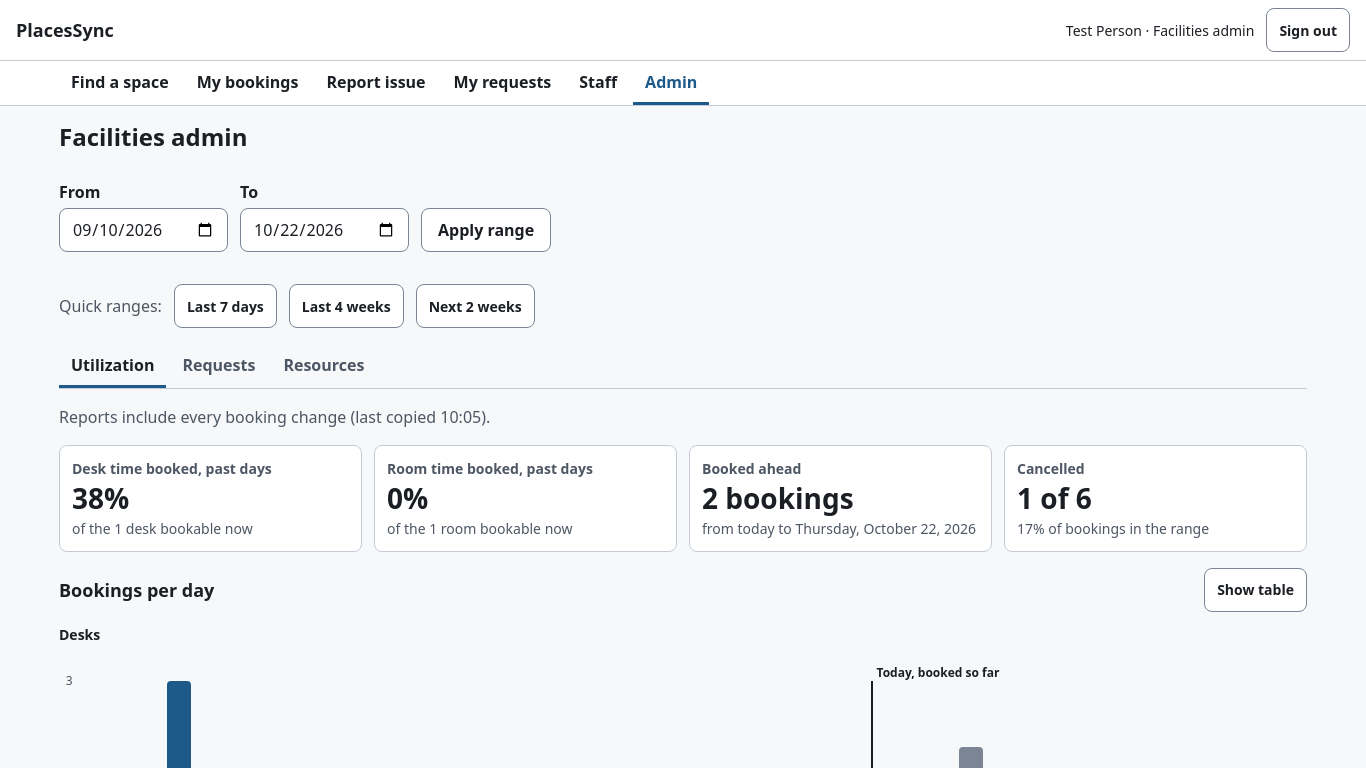
Scenario: Admin dashboard (SPEC 14.1) › a preset re-renders the tiles, the chart and the tables for the new range
Click the button "Next 2 weeks" at (475, 306), box [416,284,535,328]
(page scrolled)
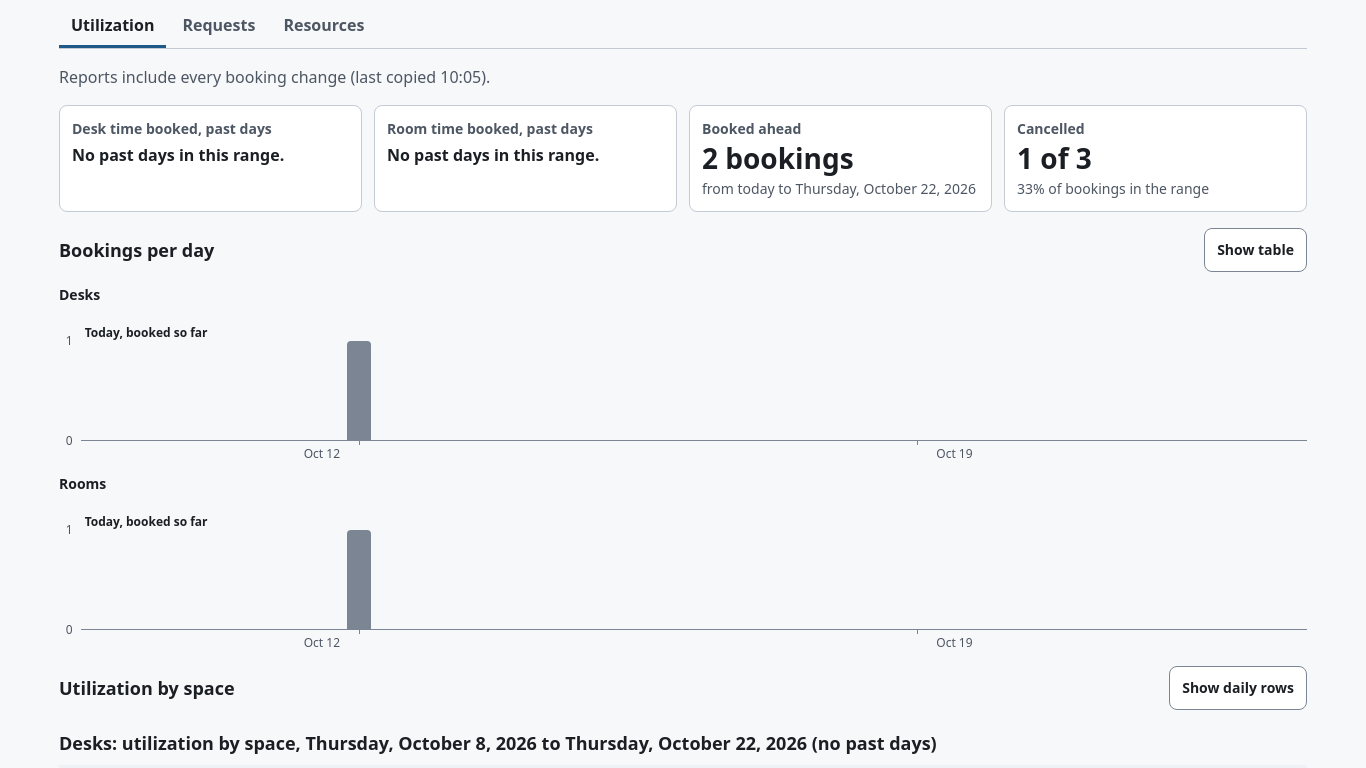
Check: the picture named "Desk bookings per weekday, October 8 to October 22;" is shown, box [81,309,1307,461]
Check: the list item "Desk time booked, past days No past days in this range." is shown, box [59,105,362,212]
